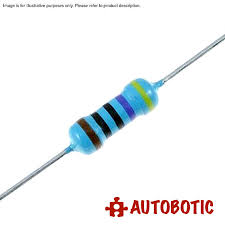resistor: (45, 73, 171, 186)
